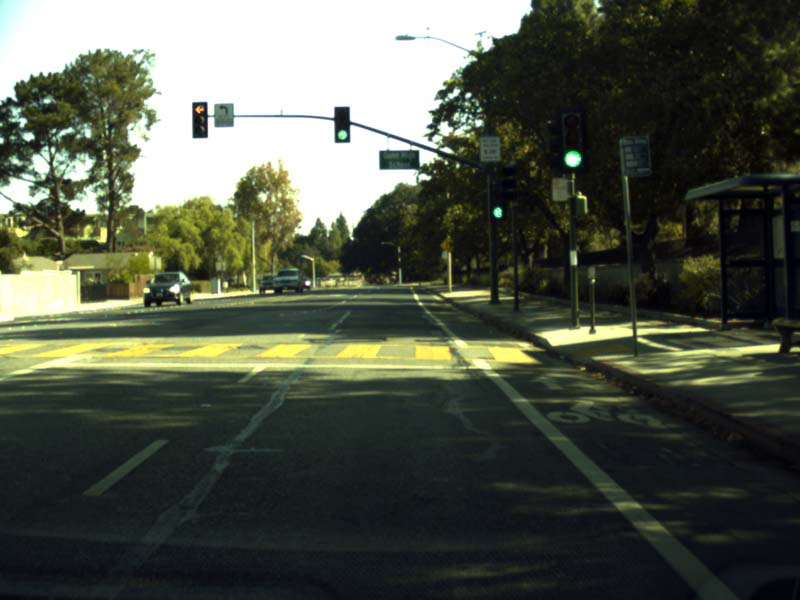Green: (560, 112, 584, 171), (333, 104, 351, 143), (489, 184, 505, 220)
Red: (190, 100, 207, 138)
